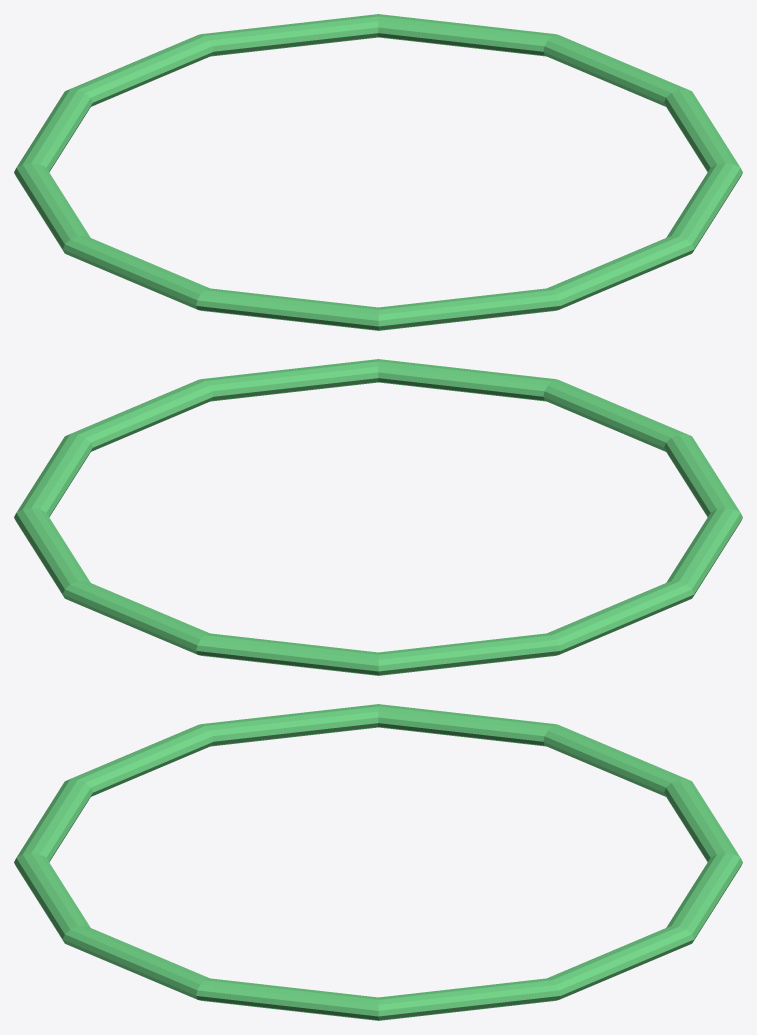
The picture shows the model from 3 angles, top to bottom: view 1: azimuth 30°, elevation 25°; view 2: azimuth 150°, elevation 25°; view 3: azimuth 270°, elevation 25°; orthographic projection.
Parts seen in each view (by area): view 1: circle; view 2: circle; view 3: circle.
Boxes of the visible parts, x1,y1,x2,y2 form: circle: (14,14,742,330); circle: (14,359,742,675); circle: (14,704,742,1020).
Bounding box in the file's own units: 1.95 × 0.0551 × 1.95.
